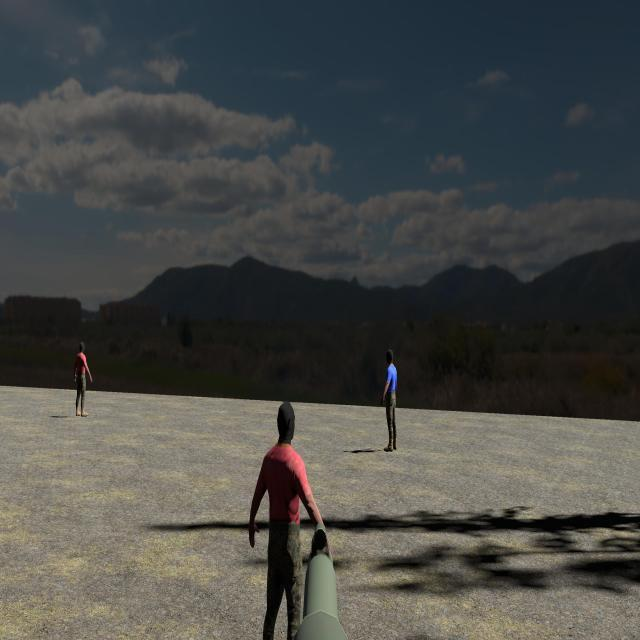Human: (248, 399, 328, 640), (382, 348, 398, 451), (74, 341, 92, 418)
